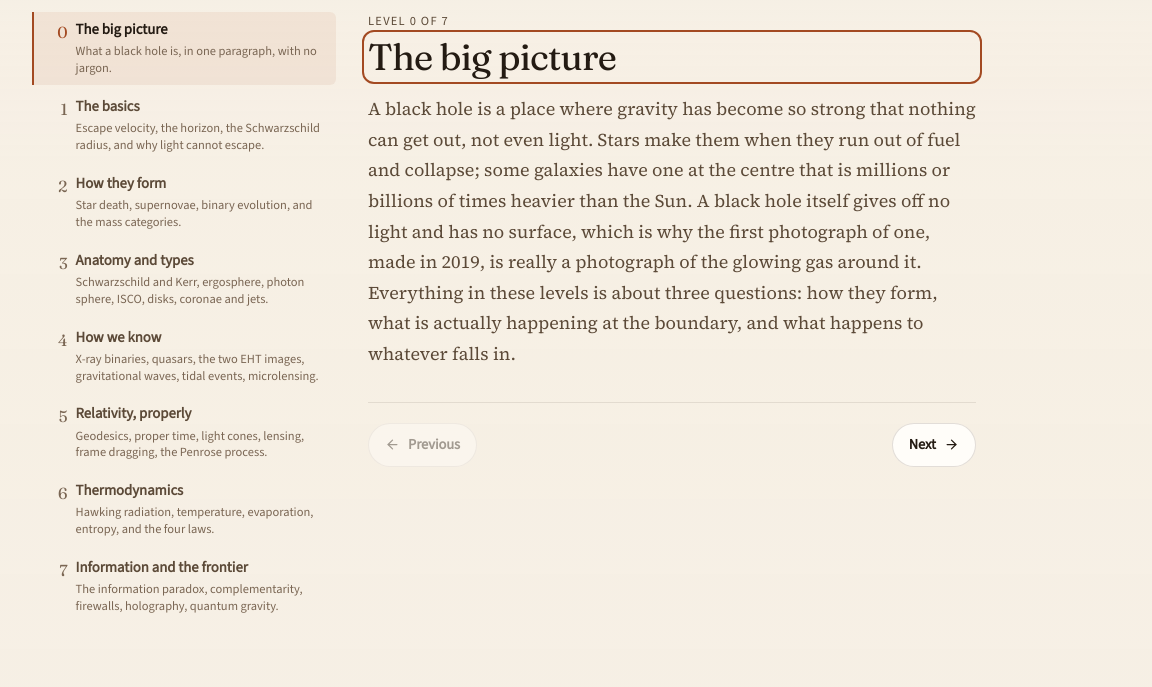
Test: the level reader › disables Previous on the first level and Next on the last
The image size is (1152, 687).
(page scrolled)
Expected: the button "Previous" is disabled, [368, 423, 477, 467]
Click the button "Information and the frontier": click(184, 586) [32, 550, 336, 623]
(page scrolled)
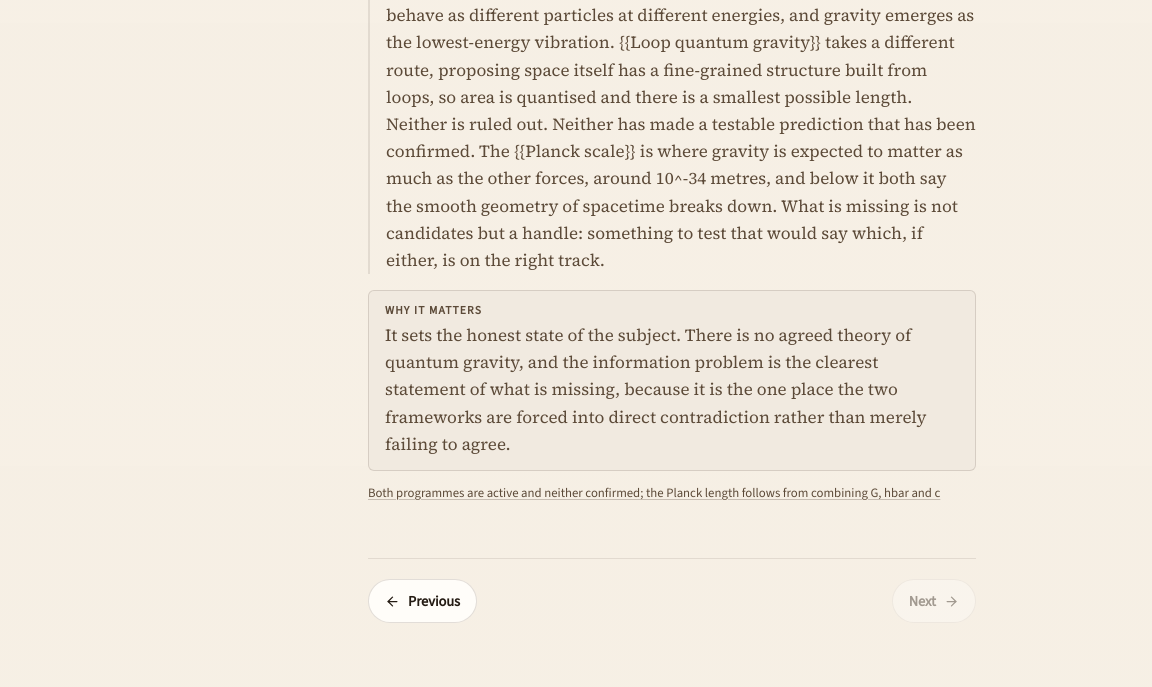
Expected: the button "Next" is disabled, [892, 579, 976, 623]
